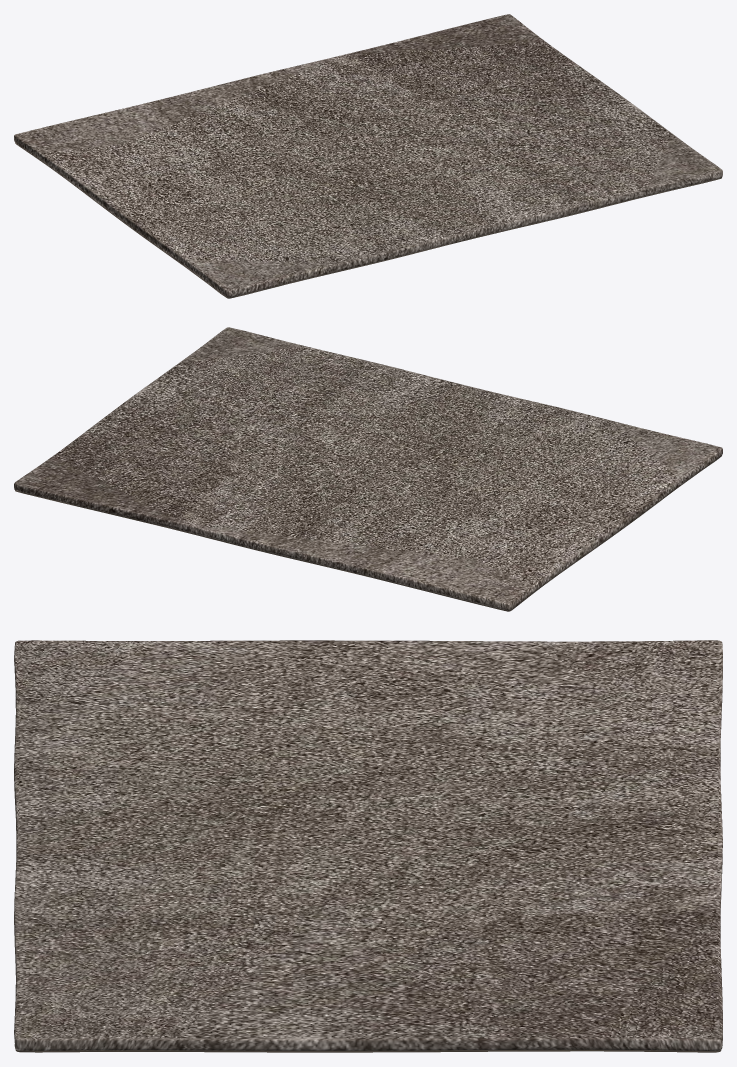
File: B07QBS4RKK.glb
3 renders of one model, top to bottom at view 1: azimuth 30°, elevation 25°; view 2: azimuth 150°, elevation 25°; view 3: azimuth 270°, elevation 25°, orthographic. The views are drawn at different scales.
Parts seen in each view (by area): view 1: RootNode; view 2: RootNode; view 3: RootNode.
Part boxes in pixels (x1,y1,x2,y2): RootNode: (14,14,722,298); RootNode: (14,327,722,611); RootNode: (14,640,722,1052).
Size of the model in its own units: 1.6 by 0.0252 by 1.2.
1 material, 1 textured.
